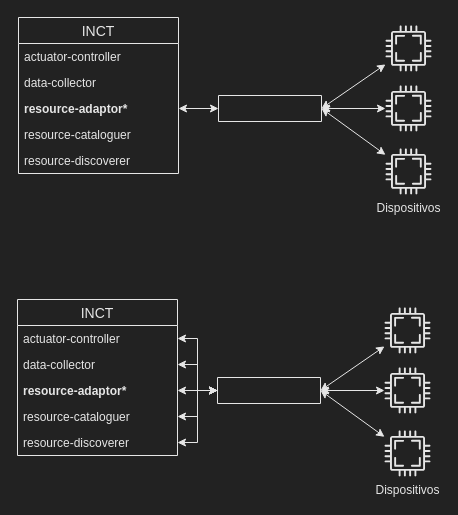
This 458x515 diagram has some shape labels left out. The centre of each missing label's shape, as x and y in pixels:
MQTT Broker: point 270,108
RabbitMQ: point 268,390
